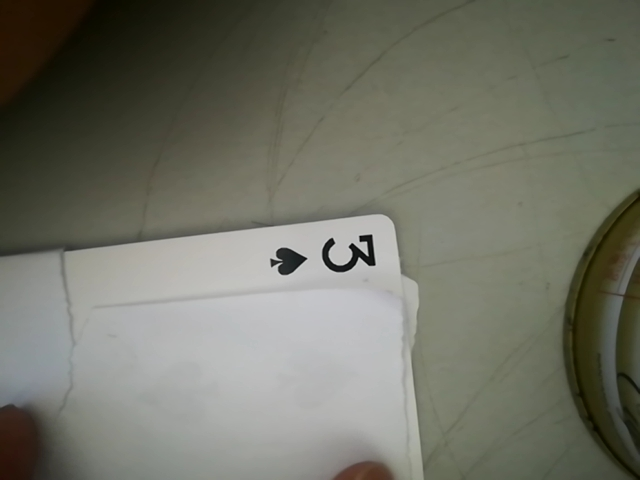ht 3: (261, 224, 396, 282)
